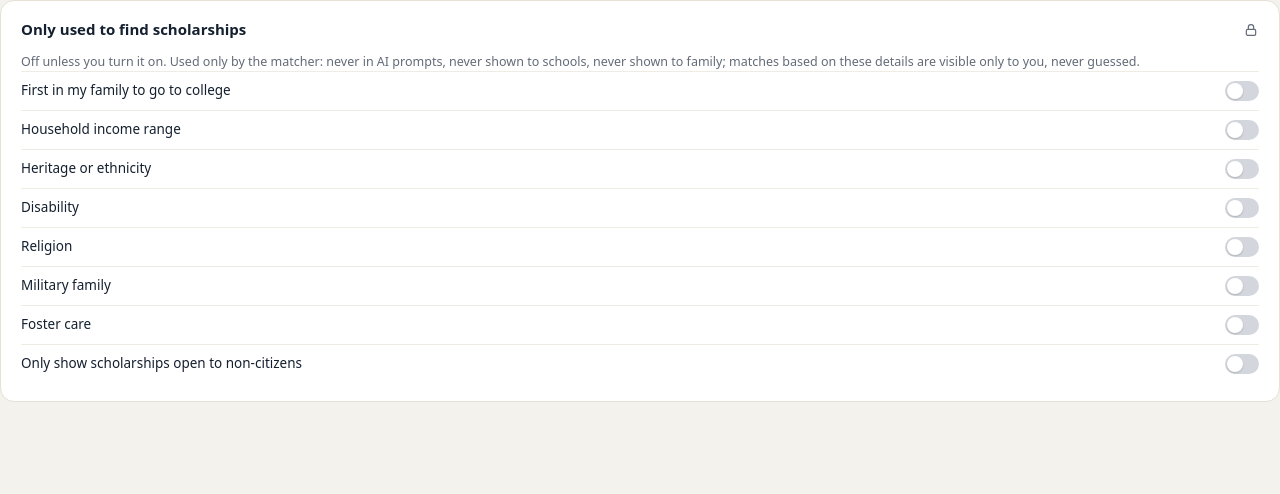
Test: SensitiveToggles (ME-05) › asks for a range before turning income on
Click the switch named "Household income range" in the row of "Household income range" at (1242, 130), box top-left (1225, 120), bottom-right (1259, 140)
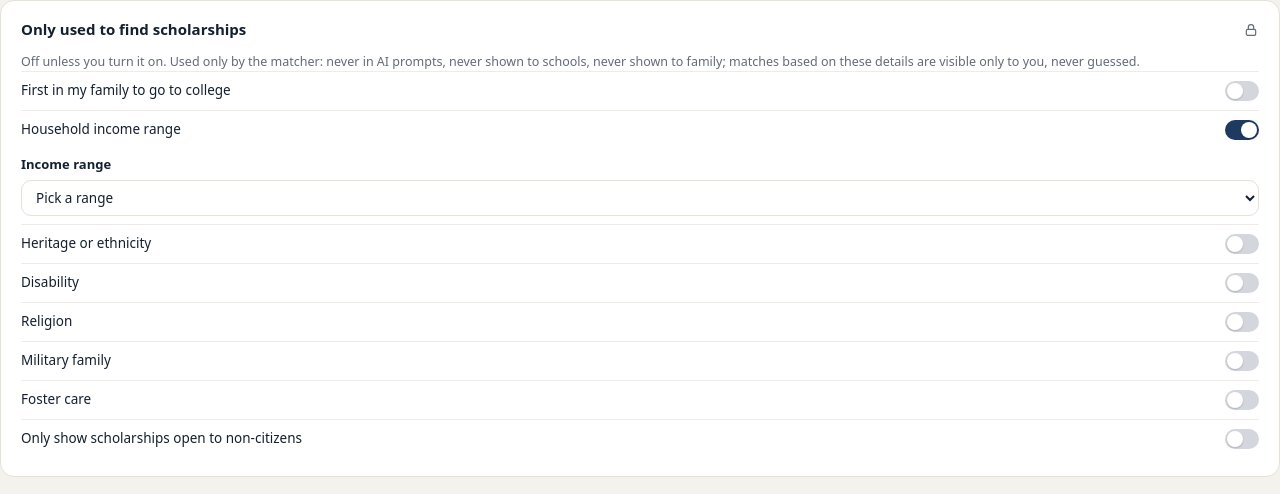
Select "$48k–75k" in the dropdown labelled "Income range" at (640, 198), box top-left (21, 180), bottom-right (1259, 216)
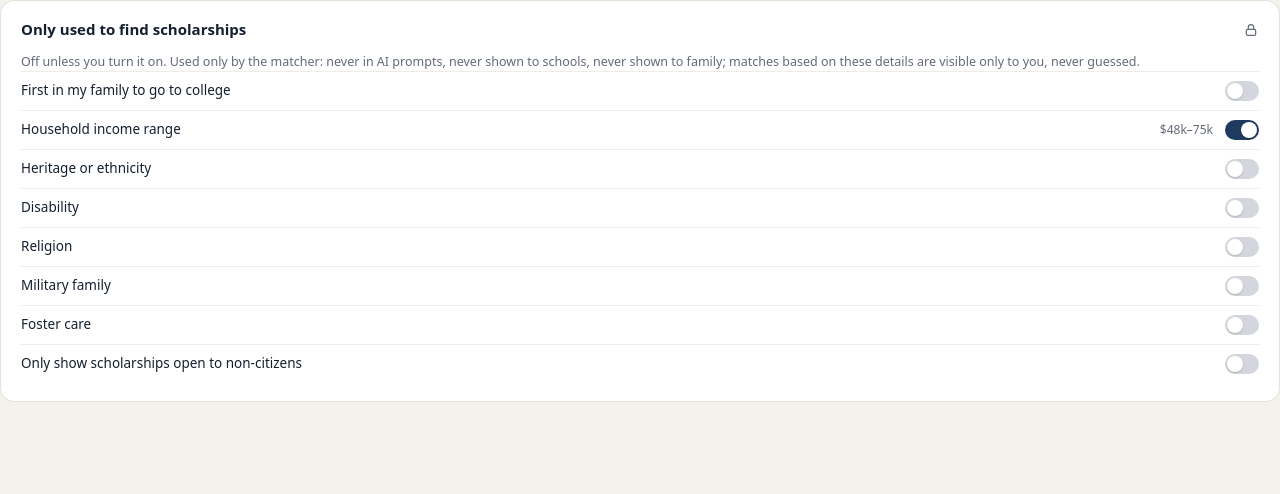
Check: the text "$48k–75k" is shown, box top-left (1160, 121), bottom-right (1213, 139)
